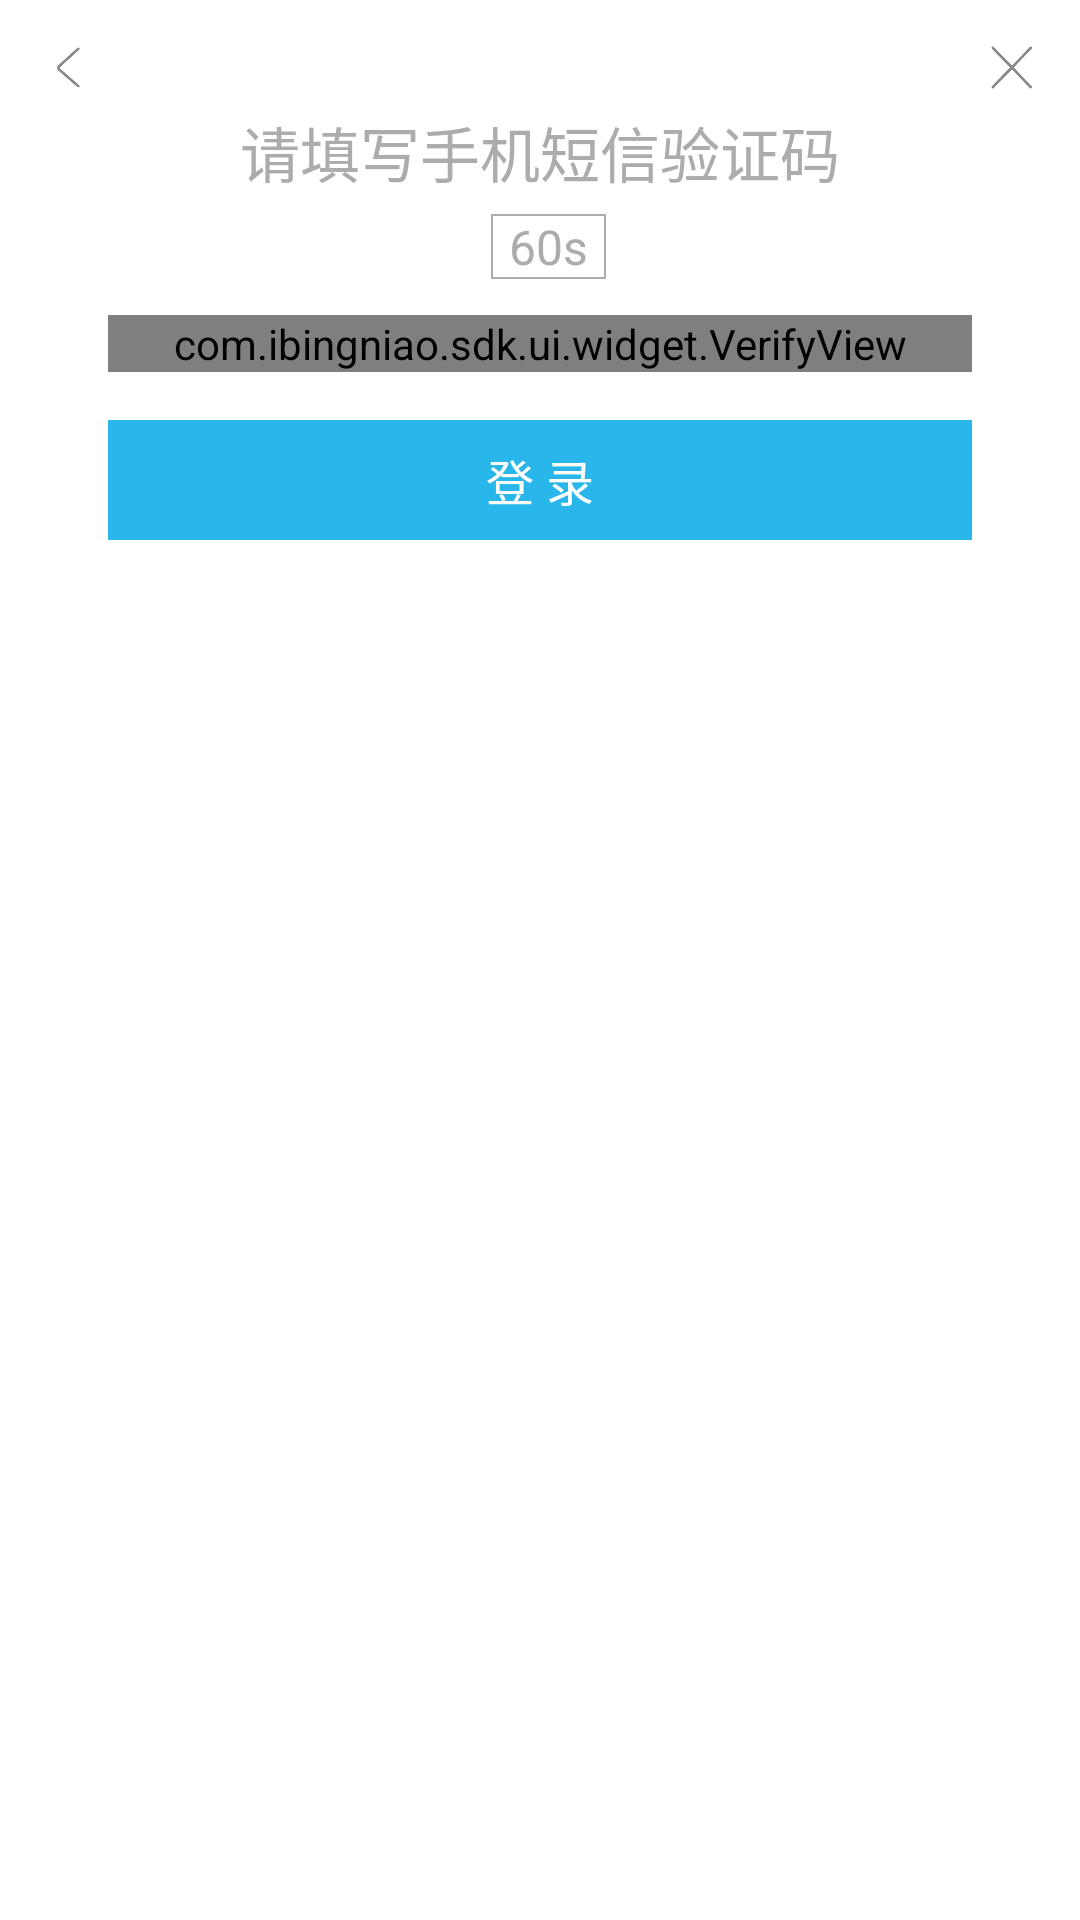

Where to tap for icons on this 1080*1920 app screen, as point (x, y):
关闭: point (1011, 67)
返回: point (68, 67)
